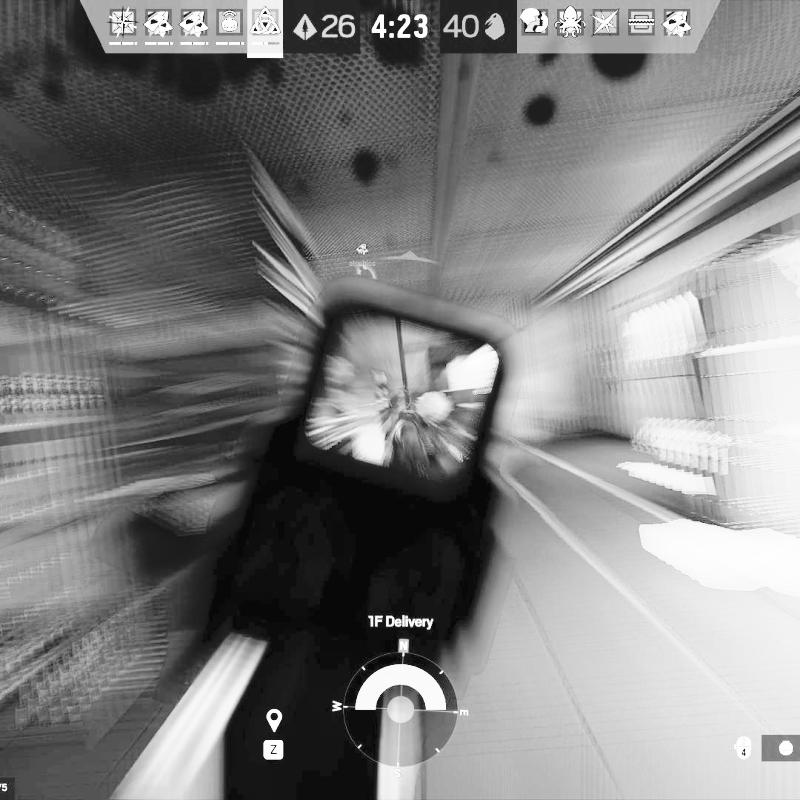Character: (389, 388, 470, 477)
Friend_label: (348, 242, 376, 268)
Head: (414, 390, 454, 428)
